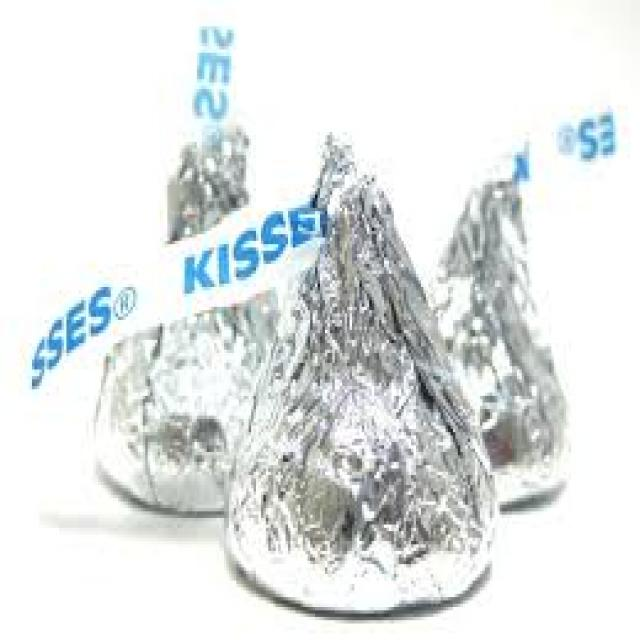kisses: (220, 133, 512, 621), (90, 124, 288, 526), (416, 155, 568, 510)
